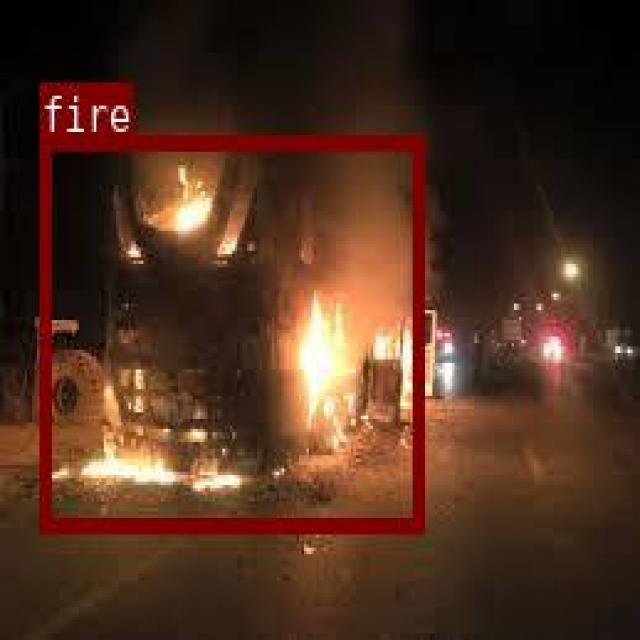fire: (38, 135, 422, 530)
